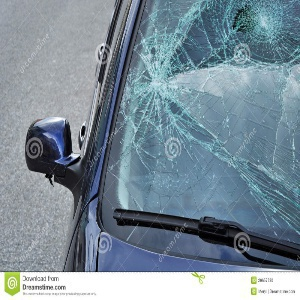front_windshield_glass: (116, 2, 299, 221)
